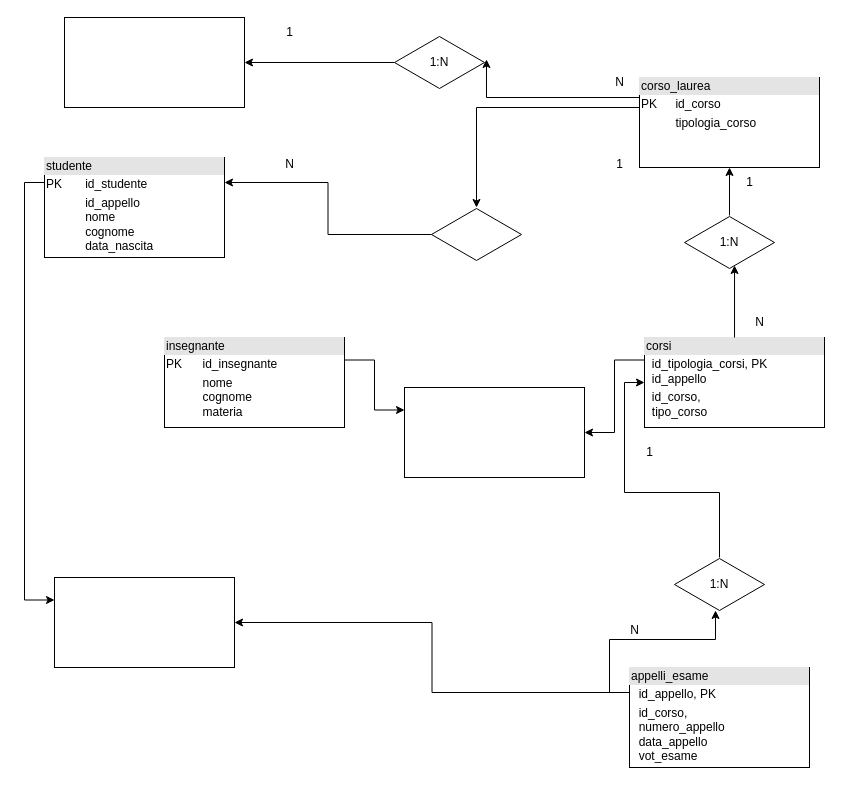
Image size: 842x785. Some labels were removed from this diagram. Here are the shapes that lost their labels. From the top down, the centre of each, then its label:
At [154,62]: "Dipartimenti id_dipartimento, PK id_corso, UNIQUE tipologia_dipartimento".
At [476,234]: "N:1".
At [494,432]: "docenze id_insegnante id_tipologia_corsi".
At [144,622]: "iscrizione_esaame id_studente id_appello voto".
